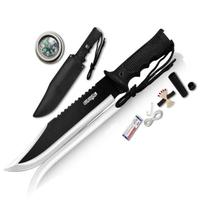knife: (2, 28, 173, 179)
